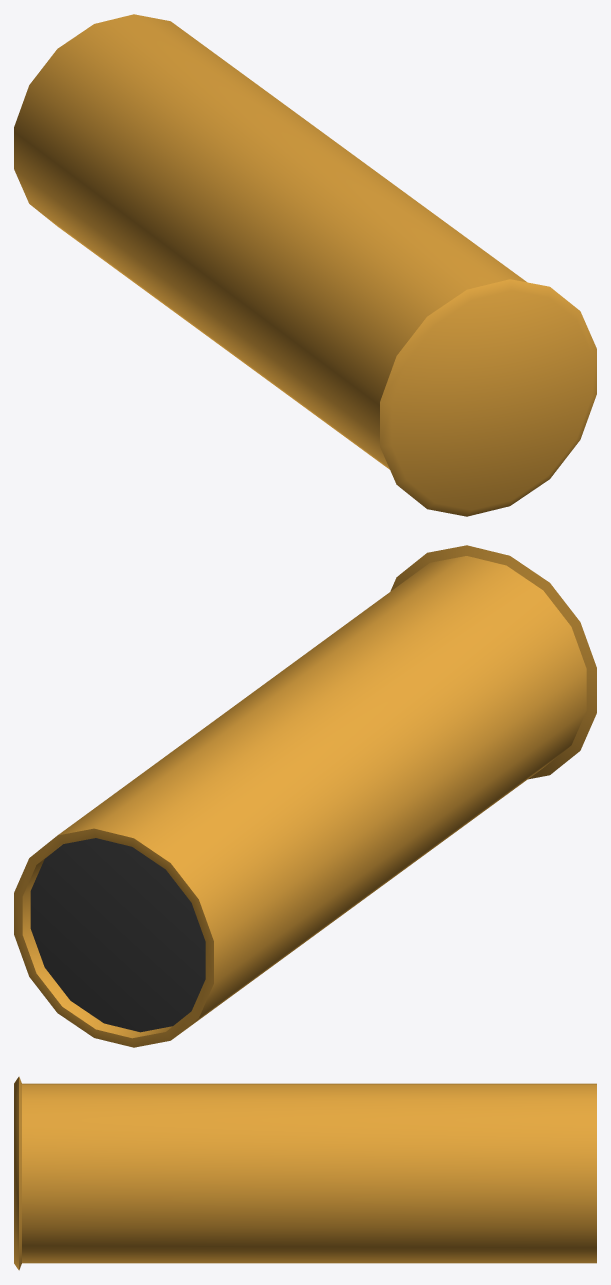
Rendered from 122_filled.fbx.
3 renders of one model, top to bottom at view 1: azimuth 30°, elevation 25°; view 2: azimuth 150°, elevation 25°; view 3: azimuth 270°, elevation 25°, orthographic. The views are drawn at different scales.
Parts seen in each view (by area): view 1: Case; view 2: Case; view 3: Case.
Boxes of the visible parts, <box> form: Case: <box>14,14,596,516</box>; Case: <box>14,545,596,1047</box>; Case: <box>14,1076,596,1270</box>.
Size of the model in its own units: 99.46 by 99.46 by 300.
